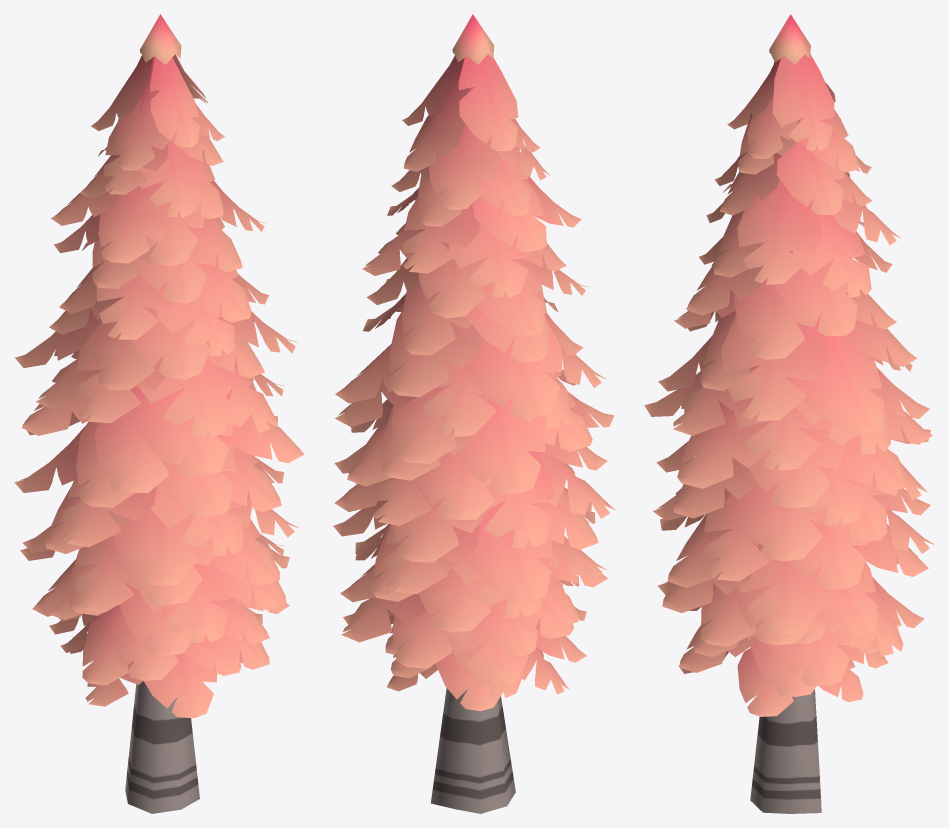
Rendered from TreeV1.fbx.
3 renders of one model, left to right at view 1: azimuth 30°, elevation 25°; view 2: azimuth 150°, elevation 25°; view 3: azimuth 270°, elevation 25°, orthographic.
Visible parts, largest first — view 1: TreeV1; view 2: TreeV1; view 3: TreeV1.
Part boxes in pixels (x1,y1,x2,y2): TreeV1: [14, 14, 304, 813]; TreeV1: [333, 14, 615, 813]; TreeV1: [644, 14, 934, 813].
Size of the model in its own units: 11.7 by 34.89 by 11.7.
Materials: 1 (1 with a texture image).
